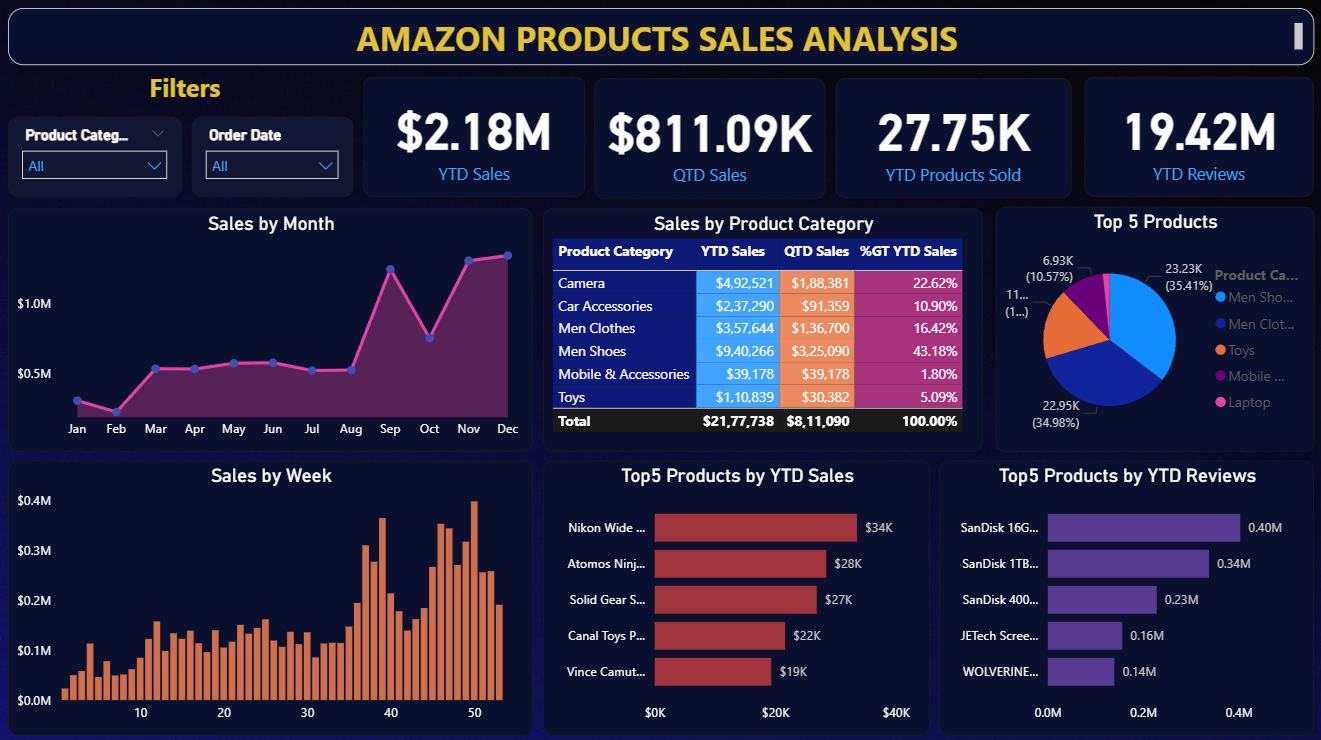

What the dashboard file says about the page in this screenshot:
{"tool":"powerbi","page":{"name":"Page 1","canvas":[1280,720],"ordinal":0},"visuals":[{"type":"textbox","box":[9.7,9.7,1260.7,55.5],"z":0},{"type":"slicer","title":"Product Category","fields":{"Values":["Amazon_Data.Product Category"]},"box":[9.7,114.6,167.7,77.2],"z":1000},{"type":"slicer","title":"Product Category","fields":{"Values":["Amazon_Data.Order Date.Variation.Date Hierarchy.Quarter"]},"box":[187,114.6,155.6,77.2],"z":2000},{"type":"areaChart","title":"Sales by Month","fields":{"Y":["Sum(Amazon_Data.Price(Dollar))"],"Category":["Date Table.Month Name"]},"box":[9.7,202.7,506.7,235.3],"z":3000},{"type":"card","title":"Sales by Month","fields":{"Values":["Amazon_Data.YTD Sales"]},"box":[352.3,76,214.7,115.8],"z":4000},{"type":"card","title":"Sales by Month","fields":{"Values":["Amazon_Data.YTD Products Sold"]},"box":[808.3,77.2,228,115.8],"z":5000},{"type":"card","title":"Sales by Month","fields":{"Values":["Amazon_Data.QTD Sales"]},"box":[575.5,77.2,223.2,117],"z":6000},{"type":"card","title":"Sales by Month","fields":{"Values":["Amazon_Data.YTD Reviews"]},"box":[1048.4,76,222,115.8],"z":7000},{"type":"tableEx","title":"Sales by Product Category","fields":{"Values":["Amazon_Data.Product Category","Amazon_Data.YTD Sales","Amazon_Data.QTD Sales","Divide(Amazon_Data.YTD Sales, ScopedEval(Amazon_Data.YTD Sales, []))"]},"box":[526,202.7,424.7,235.3],"z":8000},{"type":"columnChart","title":"Sales by Week","fields":{"Category":["Date Table.week"],"Y":["Sum(Amazon_Data.Price(Dollar))"]},"box":[9.7,446.4,506.7,265.4],"z":9000},{"type":"clusteredBarChart","title":"Top5 Products by YTD Sales","fields":{"Category":["Amazon_Data.Product Description"],"Y":["Amazon_Data.YTD Sales"]},"box":[526,446.4,374,265.4],"z":10000},{"type":"clusteredBarChart","title":"Top5 Products by YTD Reviews","fields":{"Y":["Amazon_Data.YTD Reviews"],"Category":["Amazon_Data.Product Description"]},"box":[908.4,446.4,361.9,265.4],"z":11000},{"type":"pieChart","title":"Top 5 Products","fields":{"Category":["Amazon_Data.Product Category"],"Y":["CountNonNull(Amazon_Data.Product Category)"]},"box":[962.7,201.5,307.6,236.5],"z":12000},{"type":"textbox","box":[9.7,65.1,314.9,49.5],"z":13000}]}

Visuals, with their boxes in screenshot pixels (x1, y1, x2, y2), scaled from the page's 1280x720 canvas onto the 1321x740 screenshot:
textbox: {"x1": 10, "y1": 10, "x2": 1311, "y2": 67}
"Product Category" slicer: {"x1": 10, "y1": 118, "x2": 183, "y2": 197}
"Product Category" slicer: {"x1": 193, "y1": 118, "x2": 354, "y2": 197}
"Sales by Month" areaChart: {"x1": 10, "y1": 208, "x2": 533, "y2": 450}
"Sales by Month" card: {"x1": 364, "y1": 78, "x2": 585, "y2": 197}
"Sales by Month" card: {"x1": 834, "y1": 79, "x2": 1069, "y2": 198}
"Sales by Month" card: {"x1": 594, "y1": 79, "x2": 824, "y2": 200}
"Sales by Month" card: {"x1": 1082, "y1": 78, "x2": 1311, "y2": 197}
"Sales by Product Category" tableEx: {"x1": 543, "y1": 208, "x2": 981, "y2": 450}
"Sales by Week" columnChart: {"x1": 10, "y1": 459, "x2": 533, "y2": 732}
"Top5 Products by YTD Sales" clusteredBarChart: {"x1": 543, "y1": 459, "x2": 929, "y2": 732}
"Top5 Products by YTD Reviews" clusteredBarChart: {"x1": 937, "y1": 459, "x2": 1311, "y2": 732}
"Top 5 Products" pieChart: {"x1": 994, "y1": 207, "x2": 1311, "y2": 450}
textbox: {"x1": 10, "y1": 67, "x2": 335, "y2": 118}
